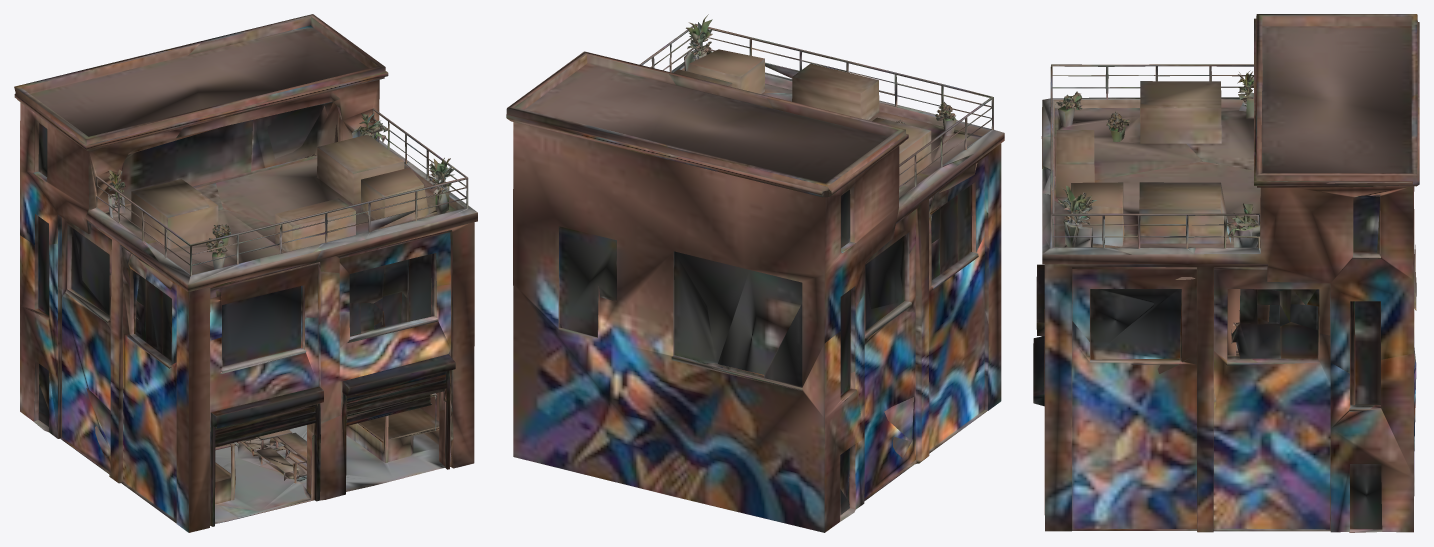
Rendered from warehouse.glb.
3 renders of one model, left to right at view 1: azimuth 30°, elevation 25°; view 2: azimuth 150°, elevation 25°; view 3: azimuth 270°, elevation 25°, orthographic. The views are drawn at different scales.
Bounding box in the file's own units: 1.85 × 1.9 × 1.85.
1 material, 1 textured.
